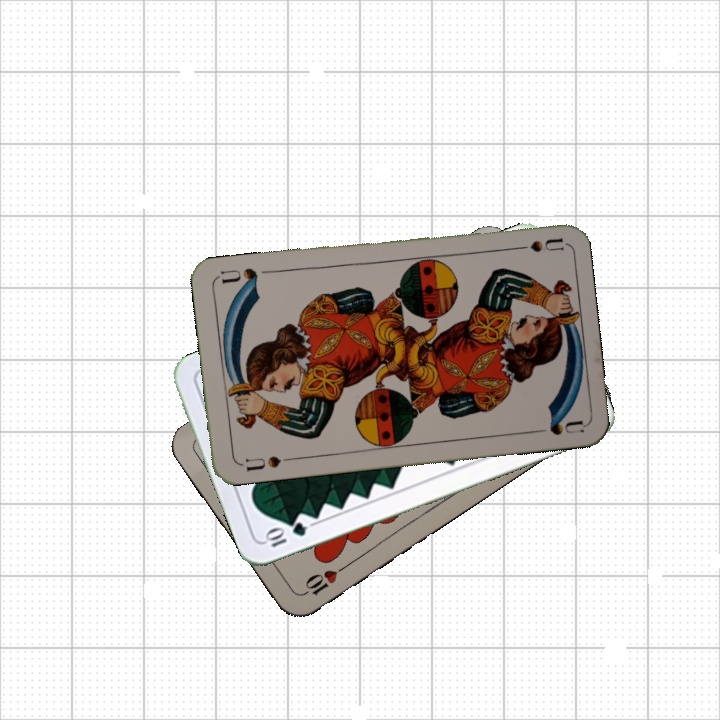G10: (261, 518, 310, 550)
H10: (296, 561, 349, 600)
SU: (504, 234, 564, 255), (242, 452, 295, 474)
